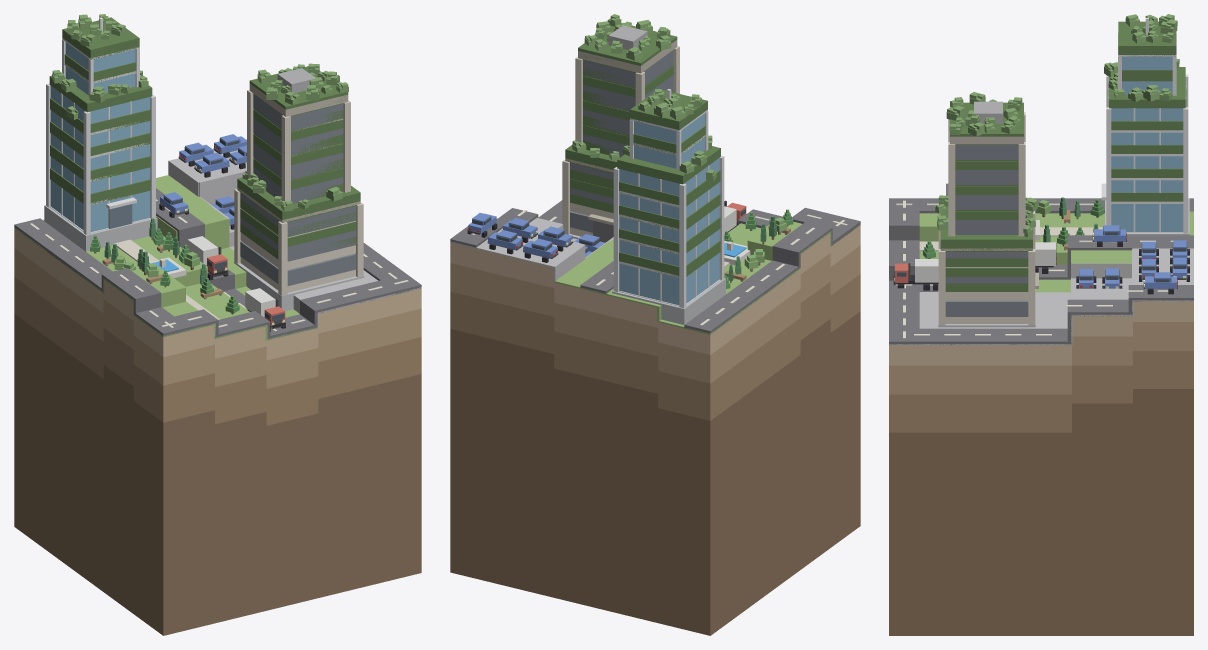
Rendered from block_8_greenroof_45.glb.
3 renders of one model, left to right at view 1: azimuth 30°, elevation 25°; view 2: azimuth 150°, elevation 25°; view 3: azimuth 270°, elevation 25°, orthographic. The views are drawn at different scales.
Visible parts, largest first — view 1: Patch_UpperLeft_b05_GR, Commercial_UpperLeft_GR, GR_Roof_Commercial_UpperLeft_GR, Roads_UpperLeft_b05_GR, Green_UpperLeft_j5_GR, Park_UpperLeft_GR, ULCar_025_GR, ULCar_024_GR, RoadMarks_UpperLeft_b05_GR, ULPark_Car02.001_GR; view 2: Patch_UpperLeft_b05_GR, Commercial_UpperLeft_GR, GR_Roof_Commercial_UpperLeft_GR, Roads_UpperLeft_b05_GR, Green_UpperLeft_j5_GR, Park_UpperLeft_GR, ULPark_Car00_GR, ULPark_Car00.001_GR; view 3: Patch_UpperLeft_b05_GR, Commercial_UpperLeft_GR, GR_Roof_Commercial_UpperLeft_GR, Roads_UpperLeft_b05_GR, Green_UpperLeft_j5_GR, ULCar_025_GR, RoadMarks_UpperLeft_b05_GR, Park_UpperLeft_GR, ULCar_024_GR, ULCar_013_GR, ULCar_023_GR.
Part boxes in pixels (box(x1,y1,x2,y2)): Patch_UpperLeft_b05_GR: box(14, 228, 421, 635); Commercial_UpperLeft_GR: box(44, 17, 364, 310); GR_Roof_Commercial_UpperLeft_GR: box(49, 17, 360, 259); Roads_UpperLeft_b05_GR: box(14, 139, 421, 339); Green_UpperLeft_j5_GR: box(14, 150, 421, 340); Park_UpperLeft_GR: box(102, 239, 230, 319); ULCar_025_GR: box(245, 288, 285, 331); ULCar_024_GR: box(187, 236, 228, 280); RoadMarks_UpperLeft_b05_GR: box(30, 199, 408, 331); ULPark_Car02.001_GR: box(194, 152, 229, 177); Patch_UpperLeft_b05_GR: box(450, 225, 860, 635); Commercial_UpperLeft_GR: box(562, 25, 725, 324); GR_Roof_Commercial_UpperLeft_GR: box(565, 23, 720, 277); Roads_UpperLeft_b05_GR: box(450, 200, 860, 333); Green_UpperLeft_j5_GR: box(450, 218, 859, 334); Park_UpperLeft_GR: box(724, 223, 800, 281); ULPark_Car00_GR: box(487, 230, 523, 254); ULPark_Car00.001_GR: box(523, 238, 558, 262); Patch_UpperLeft_b05_GR: box(889, 301, 1193, 635); Commercial_UpperLeft_GR: box(938, 17, 1189, 327); GR_Roof_Commercial_UpperLeft_GR: box(940, 21, 1186, 291); Roads_UpperLeft_b05_GR: box(889, 183, 1193, 345); Green_UpperLeft_j5_GR: box(889, 211, 1193, 345); ULCar_025_GR: box(893, 259, 938, 290); RoadMarks_UpperLeft_b05_GR: box(896, 200, 1173, 338); Park_UpperLeft_GR: box(919, 210, 1104, 258); ULCar_024_GR: box(1035, 242, 1056, 273); ULCar_013_GR: box(1143, 272, 1177, 294); ULCar_023_GR: box(1092, 225, 1126, 246).
Size of the model in its own units: 9.5 by 17.92 by 9.5.
